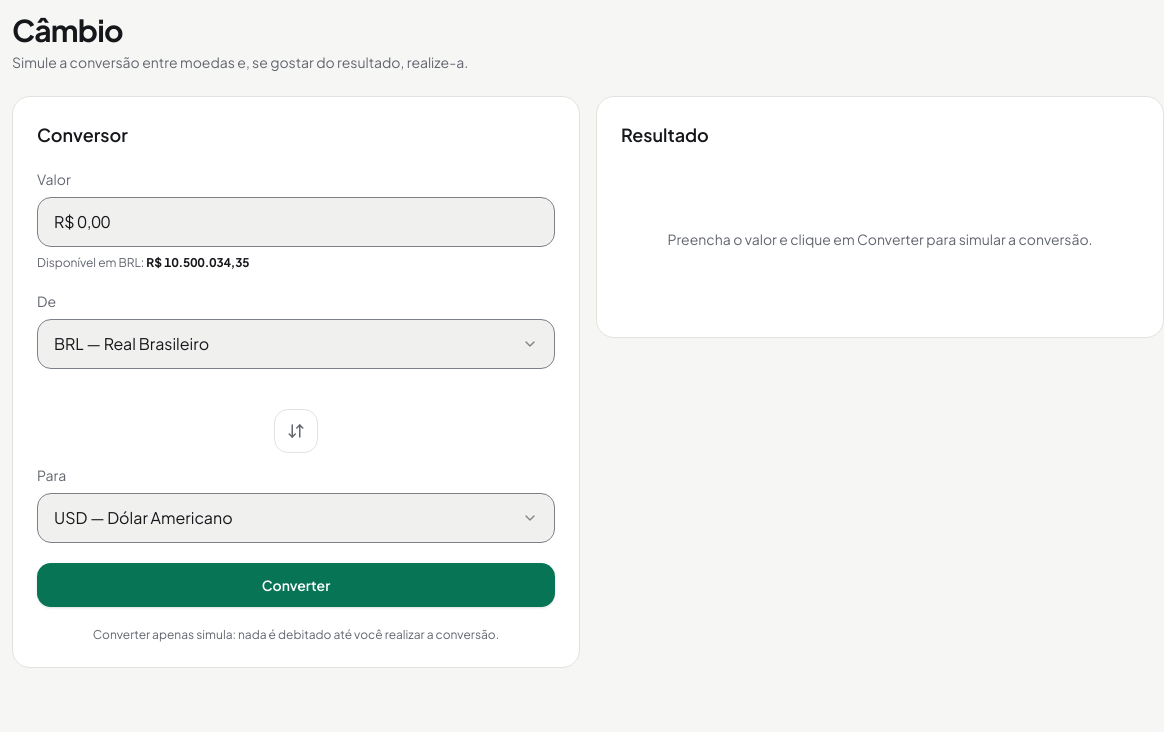
Scenario: Exchange: saldo disponível da moeda de origem › mostra o caixa em BRL (não o patrimônio total) e, ao trocar a origem, o saldo naquela moeda
Expected: the heading "Câmbio" is shown, left=12, top=11, right=123, bottom=49
Expected: the text "R$ 10.500.034,35" is shown, left=146, top=255, right=250, bottom=270
Click the button named "Inverter moedas": (296, 431) left=274, top=409, right=318, bottom=453
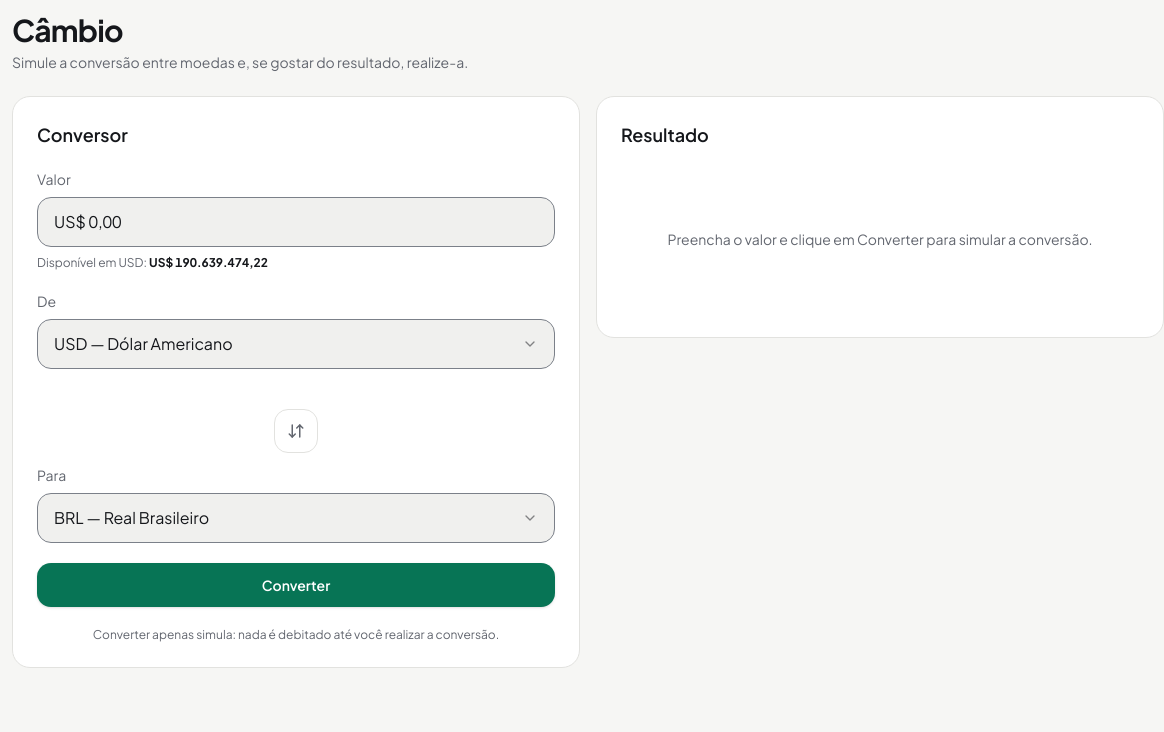
Expected: the text "Disponível em USD: US$ 190.639.474,22" is shown, left=37, top=255, right=268, bottom=270
Expected: the text "US$ 190.639.474,22" is shown, left=149, top=255, right=268, bottom=270
